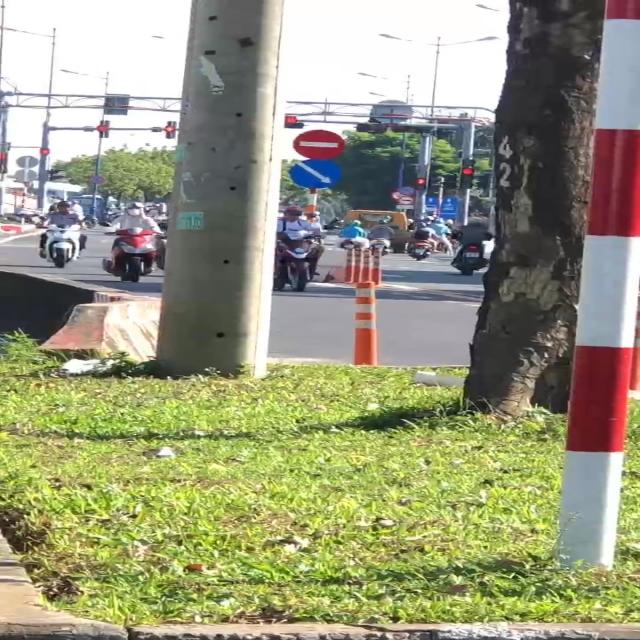Bien bao cam di nguoc chieu: (293, 128, 346, 160)
Bien bao huong phai di vong chuong ngai vat: (291, 160, 345, 190)
